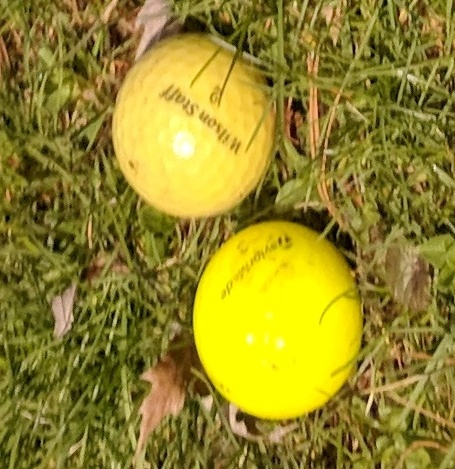ball: (195, 220, 363, 422)
